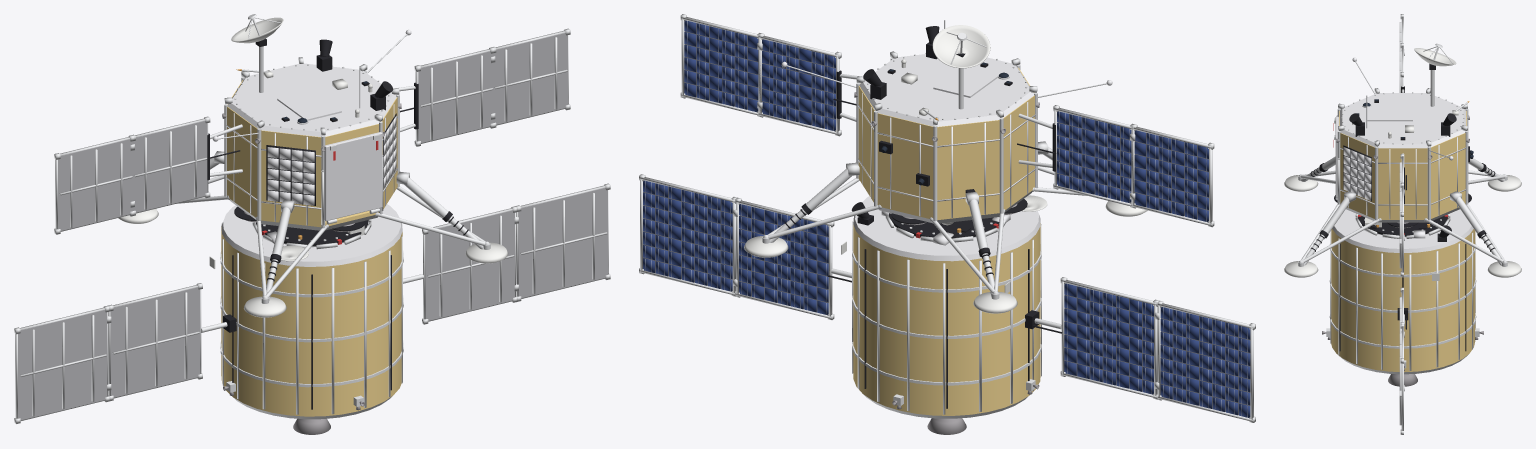
The model's file is stack_attached.glb.
3 renders of one model, left to right at view 1: azimuth 30°, elevation 25°; view 2: azimuth 150°, elevation 25°; view 3: azimuth 270°, elevation 25°, orthographic. The views are drawn at different scales.
Visible parts, largest first — view 1: pm_body, pm_wing_port_panel0_substrate, pm_wing_port_panel1_substrate, pm_wing_starboard_panel1_substrate, top_radiator, pm_wing_starboard_panel0_substrate, deck_body, wing_starboard_panel1_substrate, wing_port_panel1_substrate, wing_port_panel2_substrate, wing_starboard_panel2_substrate, ramp_panel (+28 smaller); view 2: pm_body, deck_body, pm_wing_port_panel1_cells, pm_wing_port_panel0_cells, pm_wing_starboard_panel1_cells, top_radiator, pm_wing_starboard_panel0_cells, wing_starboard_panel2_cells, wing_port_panel2_cells, wing_port_panel1_cells, wing_starboard_panel1_cells, pm_top_deck (+34 smaller); view 3: pm_body, deck_body, top_radiator, pm_top_deck, pm_stringers, corner_longerons, radiator_osr_tiles, mli_seams_tape, radiator_fins, clamp_band, pm_band0, pm_band2 (+19 smaller).
Boxes of the visible parts, x1=… form: pm_body: x1=221, y1=227, x2=402, y2=416; pm_wing_port_panel0_substrate: x1=110, y1=287, x2=200, y2=397; pm_wing_port_panel1_substrate: x1=18, y1=310, x2=107, y2=420; pm_wing_starboard_panel1_substrate: x1=518, y1=187, x2=607, y2=297; top_radiator: x1=227, y1=63, x2=396, y2=136; pm_wing_starboard_panel0_substrate: x1=425, y1=210, x2=514, y2=320; deck_body: x1=227, y1=80, x2=397, y2=227; wing_starboard_panel1_substrate: x1=418, y1=51, x2=493, y2=142; wing_port_panel1_substrate: x1=132, y1=121, x2=207, y2=212; wing_port_panel2_substrate: x1=58, y1=139, x2=133, y2=230; wing_starboard_panel2_substrate: x1=493, y1=33, x2=567, y2=124; ramp_panel: x1=324, y1=132, x2=382, y2=221; pm_body: x1=853, y1=223, x2=1040, y2=415; deck_body: x1=858, y1=67, x2=1034, y2=220; pm_wing_port_panel1_cells: x1=1160, y1=307, x2=1250, y2=417; pm_wing_port_panel0_cells: x1=1064, y1=283, x2=1153, y2=394; pm_wing_starboard_panel1_cells: x1=643, y1=180, x2=732, y2=291; top_radiator: x1=859, y1=54, x2=1034, y2=126; pm_wing_starboard_panel0_cells: x1=739, y1=204, x2=828, y2=315; wing_starboard_panel2_cells: x1=684, y1=20, x2=758, y2=112; wing_port_panel2_cells: x1=1134, y1=130, x2=1208, y2=222; wing_port_panel1_cells: x1=1057, y1=111, x2=1131, y2=202; wing_starboard_panel1_cells: x1=762, y1=39, x2=835, y2=131; pm_top_deck: x1=853, y1=196, x2=1040, y2=261; pm_body: x1=1331, y1=229, x2=1475, y2=372; deck_body: x1=1339, y1=111, x2=1466, y2=219; top_radiator: x1=1340, y1=93, x2=1465, y2=148; pm_top_deck: x1=1332, y1=209, x2=1473, y2=252; pm_stringers: x1=1330, y1=230, x2=1475, y2=370; corner_longerons: x1=1337, y1=88, x2=1468, y2=220; radiator_osr_tiles: x1=1343, y1=147, x2=1371, y2=200; mli_seams_tape: x1=1340, y1=116, x2=1466, y2=219; radiator_fins: x1=1367, y1=106, x2=1412, y2=121; clamp_band: x1=1358, y1=216, x2=1447, y2=236; pm_band0: x1=1329, y1=313, x2=1476, y2=348; pm_band2: x1=1329, y1=242, x2=1476, y2=277.
Size of the model in its own units: 8.31 by 5.42 by 3.62.
